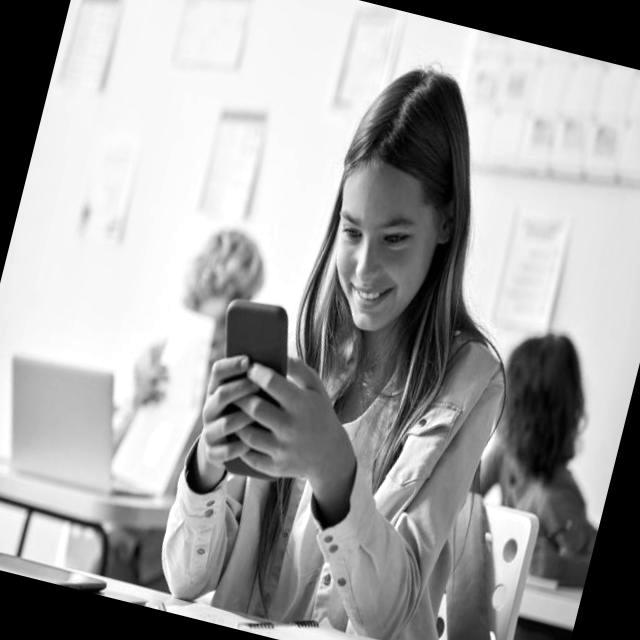phone: (188, 291, 322, 485)
